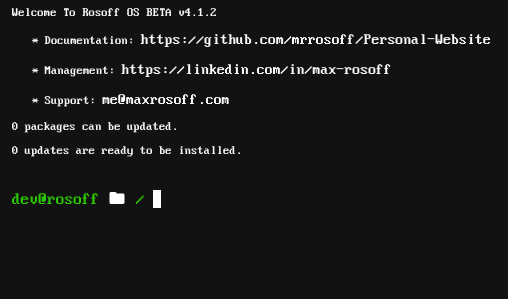
Terminal › should list completions under a bare prompt
Replace the text in the field labelled "dev@rosoff /" with "cat home/p" at (86, 199), box [12,189,161,209]
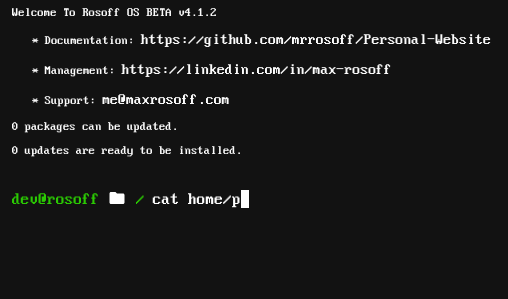
Press Tab in the field labelled "dev@rosoff / cat home/p", box [12,189,249,209]
Press Tab in the field labelled "dev@rosoff / cat home/p", box [12,189,249,209]
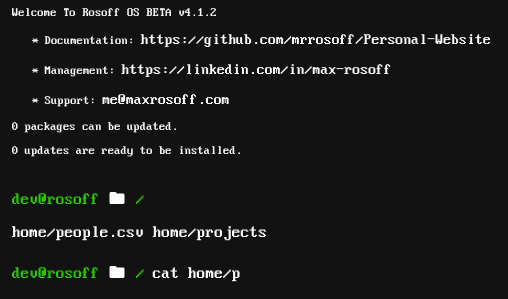
Now the text "home/people.csv home/projects" is shown, box [12,223,267,240]
